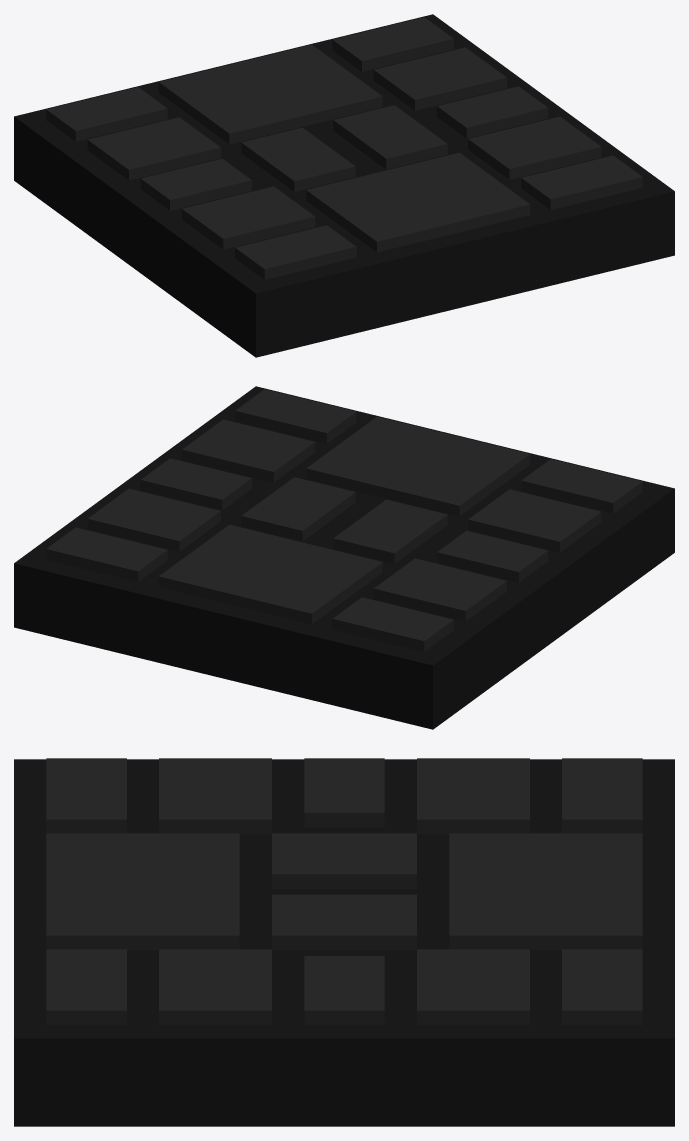
File: Floor2.obj
3 renders of one model, top to bottom at view 1: azimuth 30°, elevation 25°; view 2: azimuth 150°, elevation 25°; view 3: azimuth 270°, elevation 25°, orthographic. The views are drawn at different scales.
Size of the model in its own units: 41 by 7 by 41.
1 material, 1 textured.
